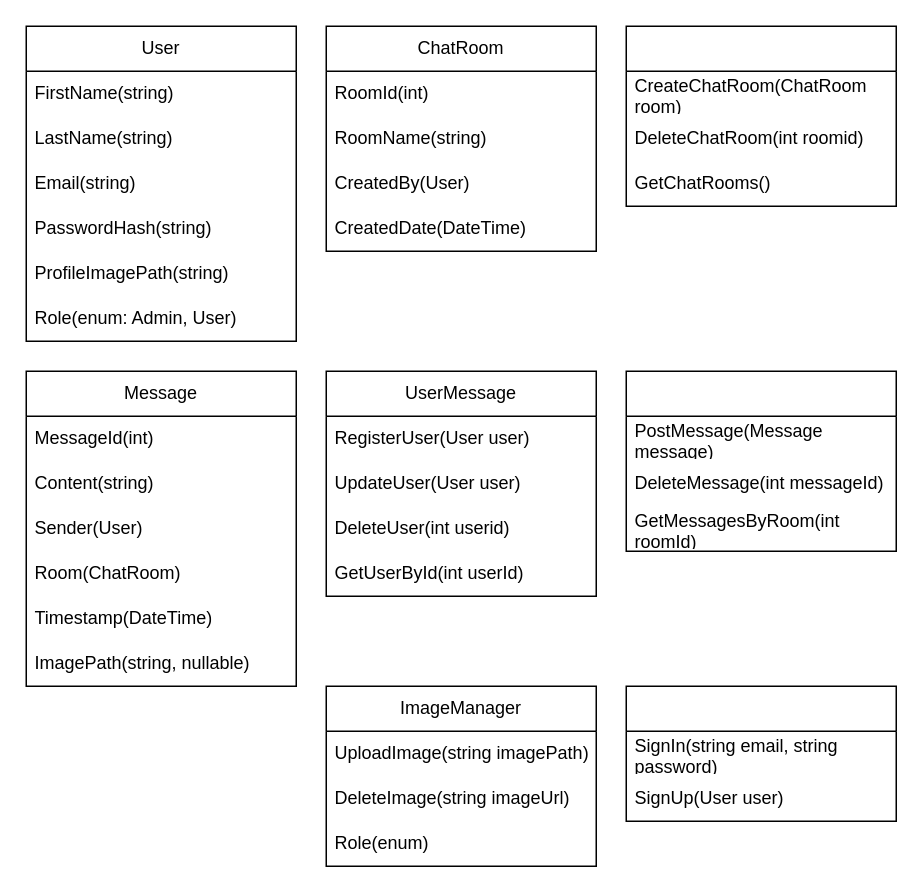
Image size: 923x893. Some labels were removed from this diagram. The box of each missing label's shape, as (x1, y1, x2, y2) in pixels:
AuthenticationService: (625, 685, 896, 821)
ChatRoomManager: (625, 25, 896, 206)
MessageManager: (625, 370, 896, 551)
